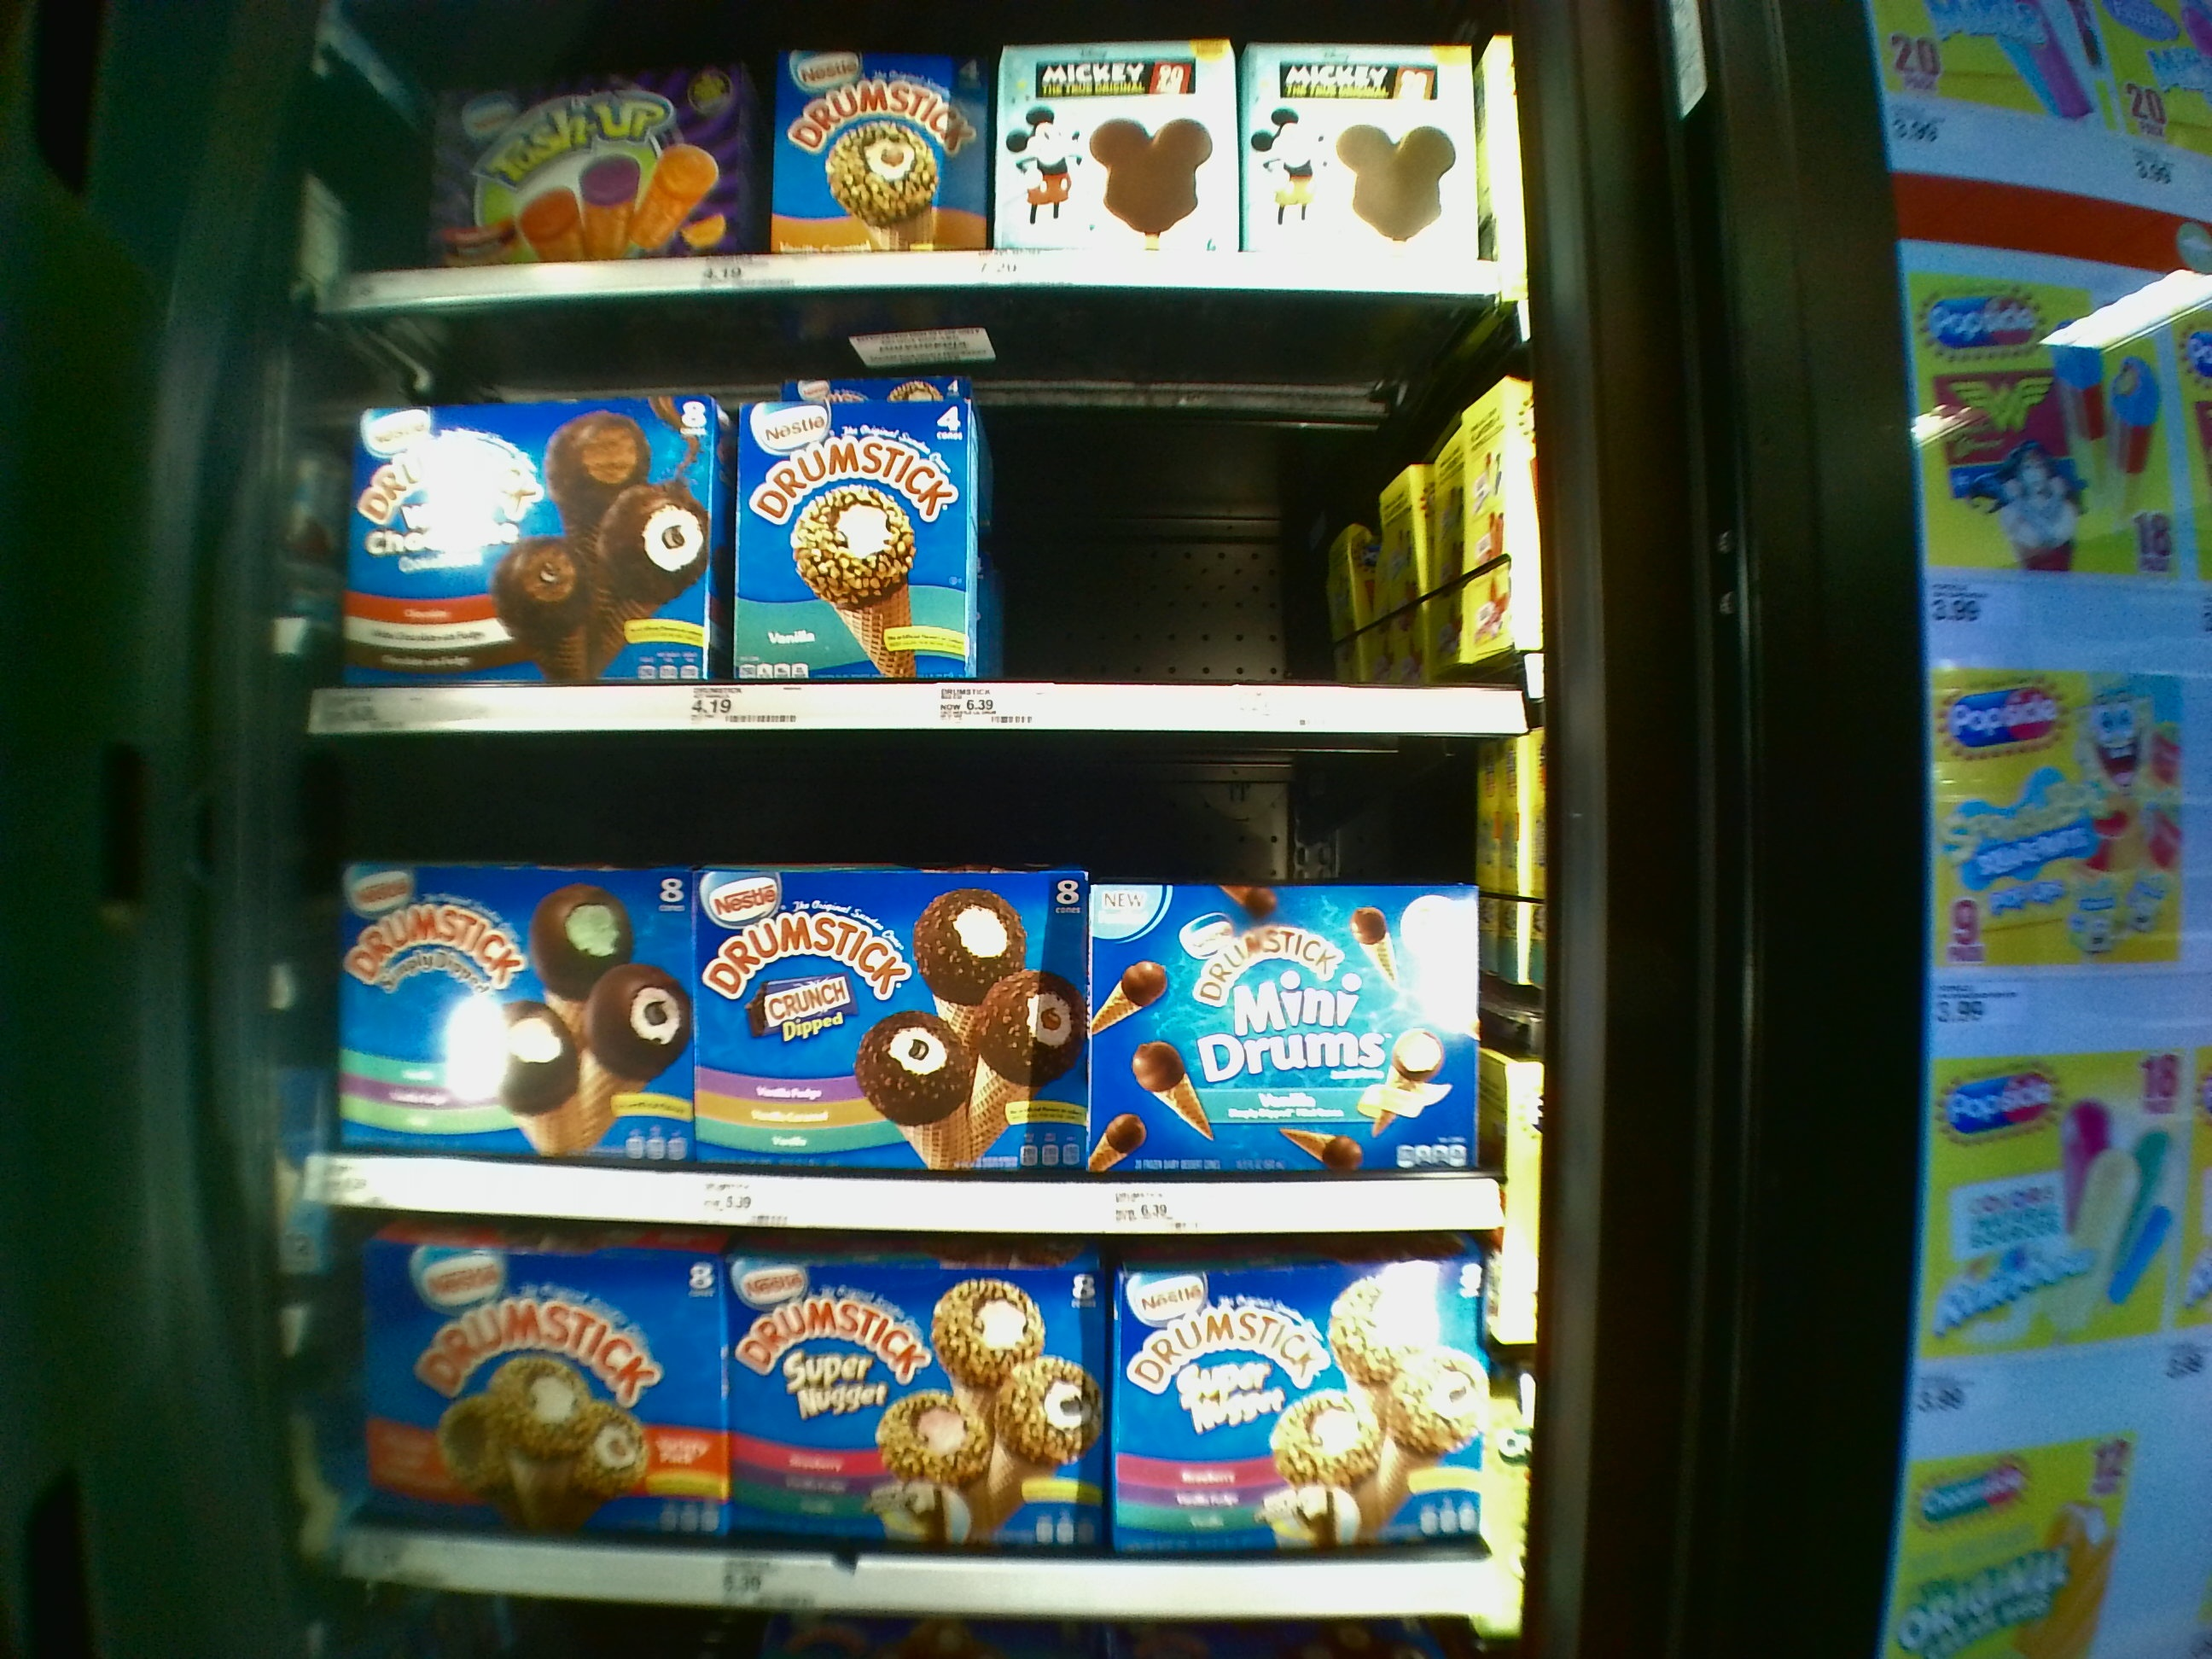shelf: (310, 744, 1522, 1230), (312, 315, 1534, 746), (317, 1218, 1519, 1624), (314, 10, 1529, 301)
